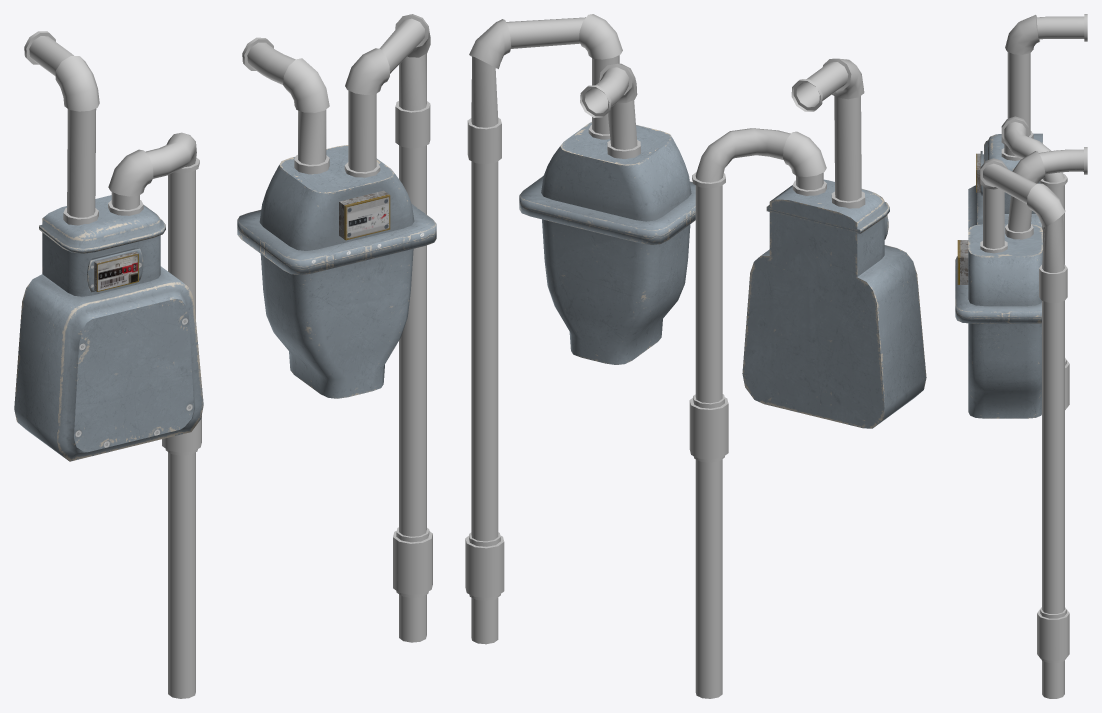
File: GasMeters.FBX
The picture shows the model from 3 angles, left to right: view 1: azimuth 30°, elevation 25°; view 2: azimuth 150°, elevation 25°; view 3: azimuth 270°, elevation 25°; orthographic projection. The views are drawn at different scales.
Visible parts, largest first — view 1: GasMeters; view 2: GasMeters; view 3: GasMeters.
Part boxes in pixels (box(x1,y1,x2,y2)): GasMeters: box(14, 14, 436, 698); GasMeters: box(465, 14, 926, 698); GasMeters: box(955, 14, 1087, 698).
Bounding box in the file's own units: 136 × 46.16 × 208.
